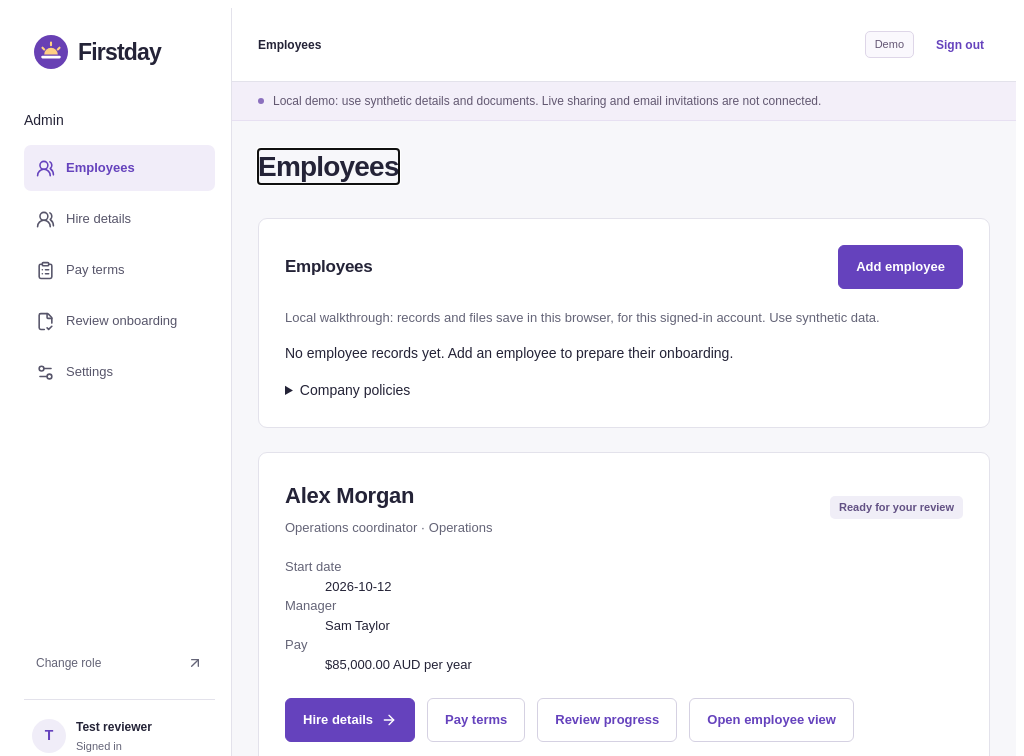
Test case: Admin local preparation and review › records only local completion after review, with no live HR claim
Click the button "Review onboarding" at (120, 321), box [24,298,215,344]
(page scrolled)
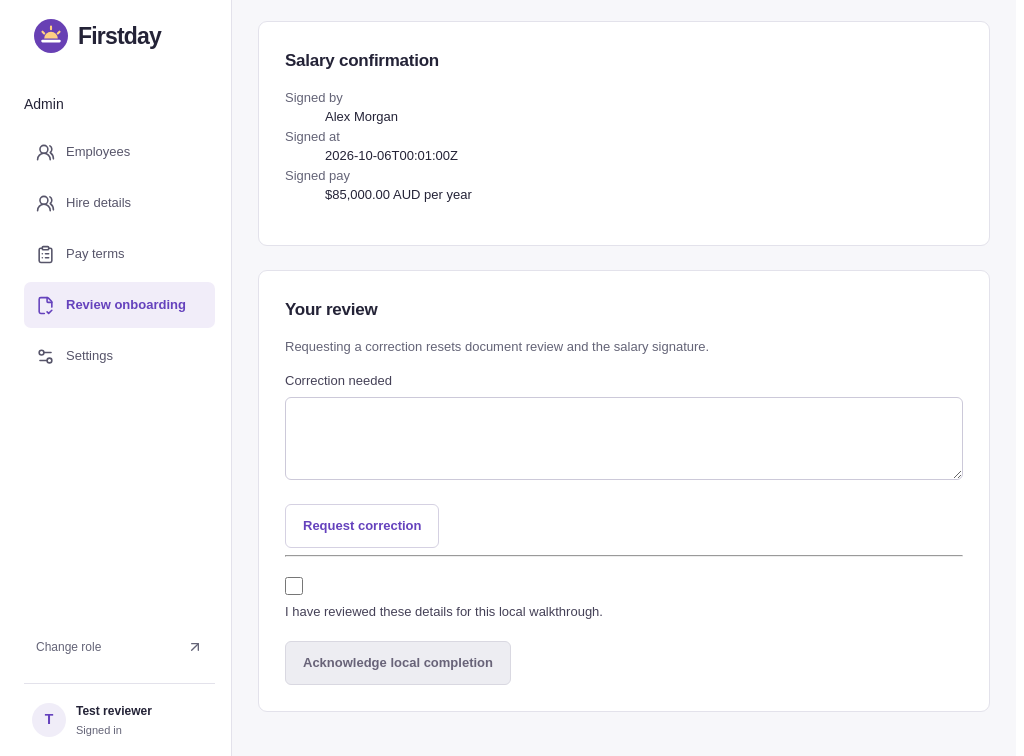
Expected: the button "Acknowledge local completion" is disabled, [285,641,511,685]
Click the checkbox labelled "I have reviewed these details for this local walkthrough." at (294, 586), box [285,577,303,595]
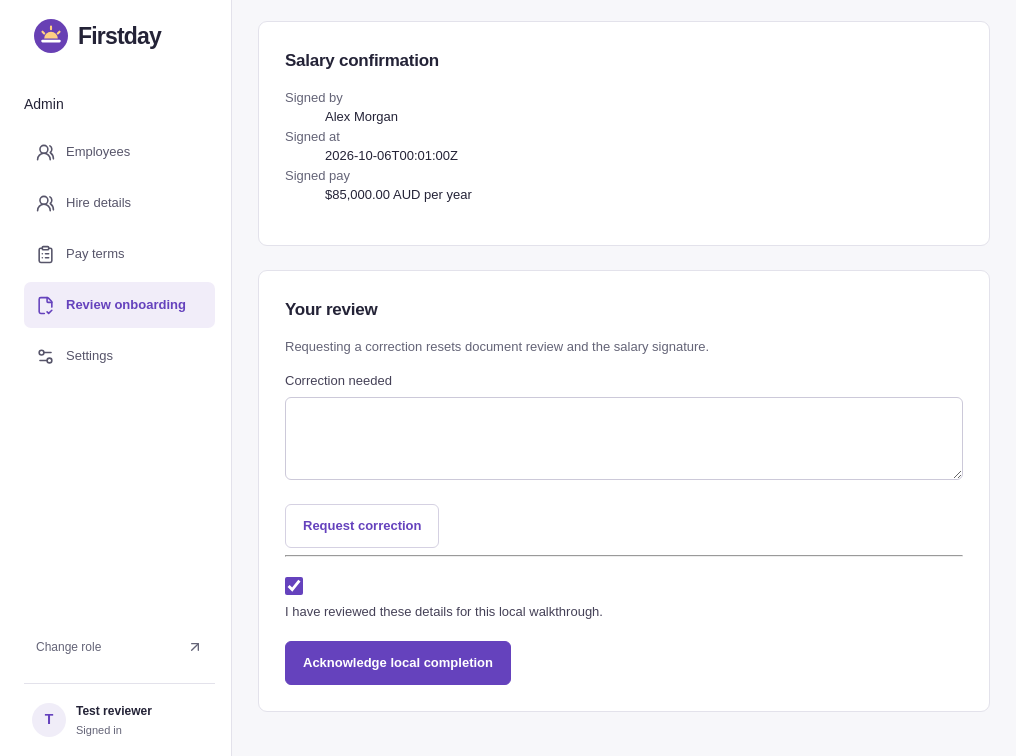
Click the button "Acknowledge local completion" at (398, 663), box [285,641,511,685]
(page scrolled)
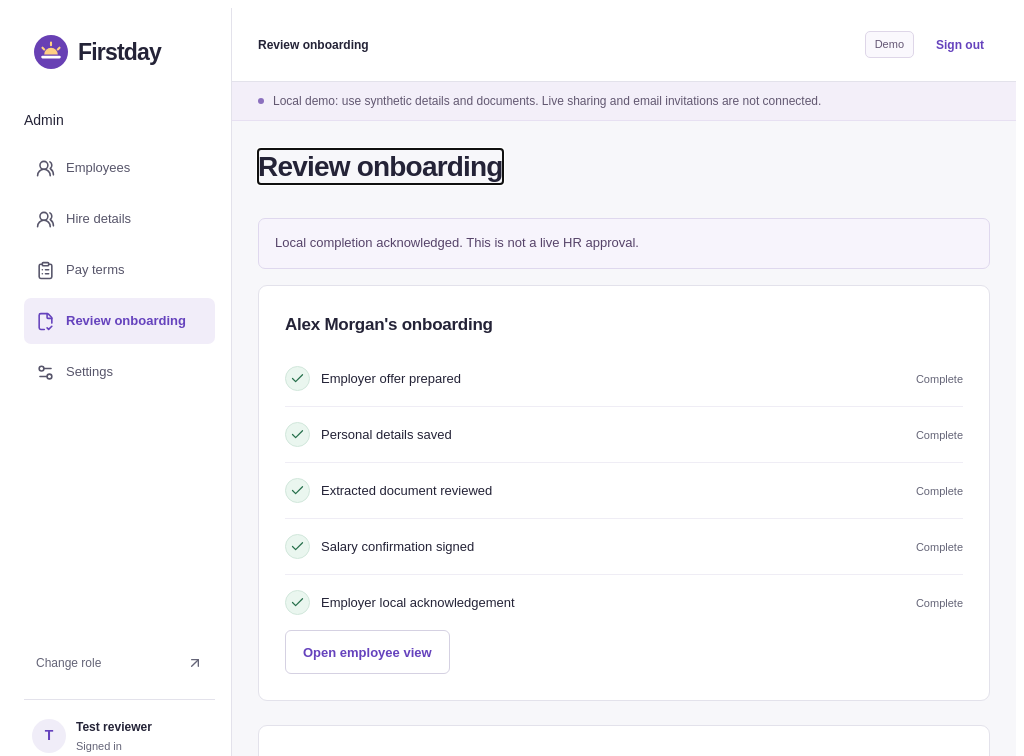
Expected: the text "Local completion acknowledged. This is not a live HR approval." is shown, [258,218,990,269]
